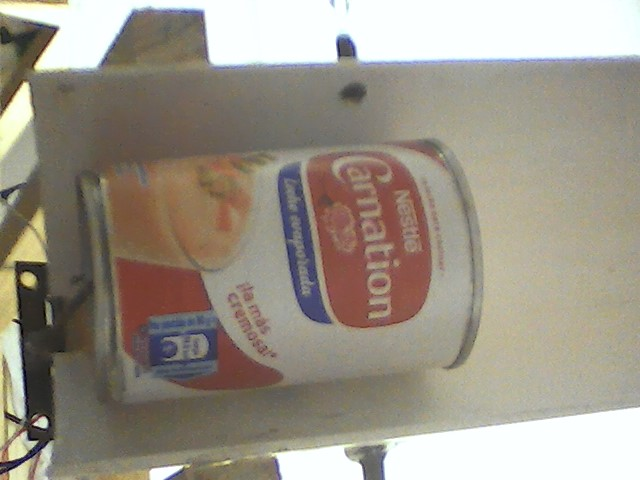lata: (67, 134, 492, 405)
